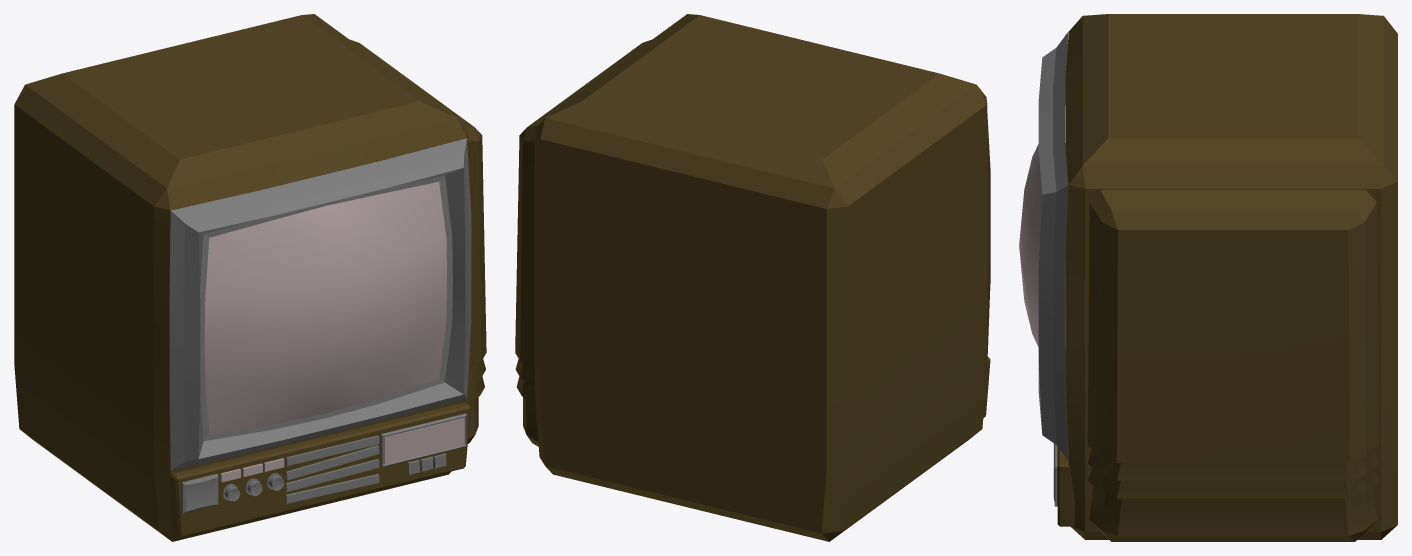
File: TVOld.glb
3 views of the same model, side by side, from view 1: azimuth 30°, elevation 25°; view 2: azimuth 150°, elevation 25°; view 3: azimuth 270°, elevation 25° (orthographic). The views are drawn at different scales.
Visible parts, largest first — view 1: pCube46, pCube41, pCube7, pCube9, pCube44, pCube21, pCube10, pCube30, pCube40, pCube33, pCube32, pCube22; view 2: pCube46, pCube44; view 3: pCube44, pCube46, pCube7, pCube41, pCube9.
Boxes of the visible parts, x1,y1,x2,y2 form: pCube46: (14, 14, 469, 541); pCube41: (204, 182, 446, 434); pCube7: (169, 138, 471, 470); pCube9: (170, 402, 470, 537); pCube44: (350, 39, 486, 443); pCube21: (384, 418, 464, 464); pCube10: (181, 474, 218, 513); pCube30: (285, 459, 379, 491); pCube40: (285, 474, 379, 503); pCube33: (285, 445, 379, 480); pCube32: (286, 435, 379, 465); pCube22: (380, 413, 466, 467); pCube46: (534, 14, 990, 541); pCube44: (515, 39, 651, 446); pCube44: (1087, 190, 1378, 541); pCube46: (1065, 14, 1397, 539); pCube7: (1038, 32, 1068, 460); pCube41: (1019, 144, 1042, 347); pCube9: (1057, 350, 1074, 526).
Bounding box in the file's own units: 39.25 × 39.92 × 34.92.
